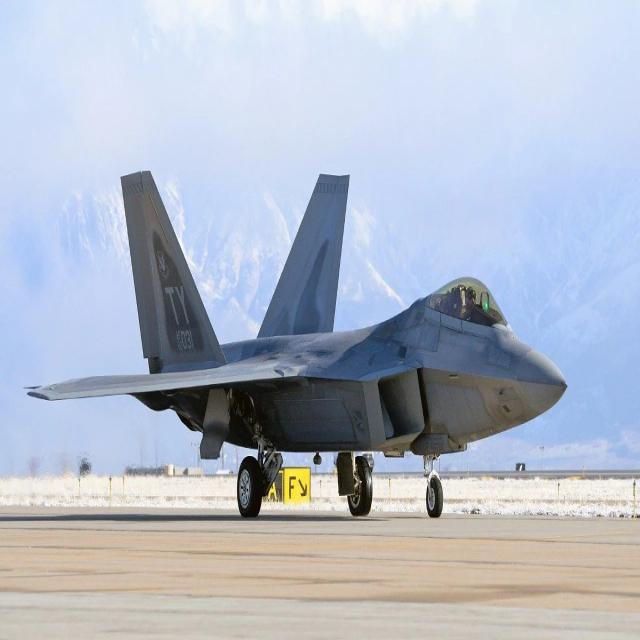F22: (17, 121, 583, 551)
